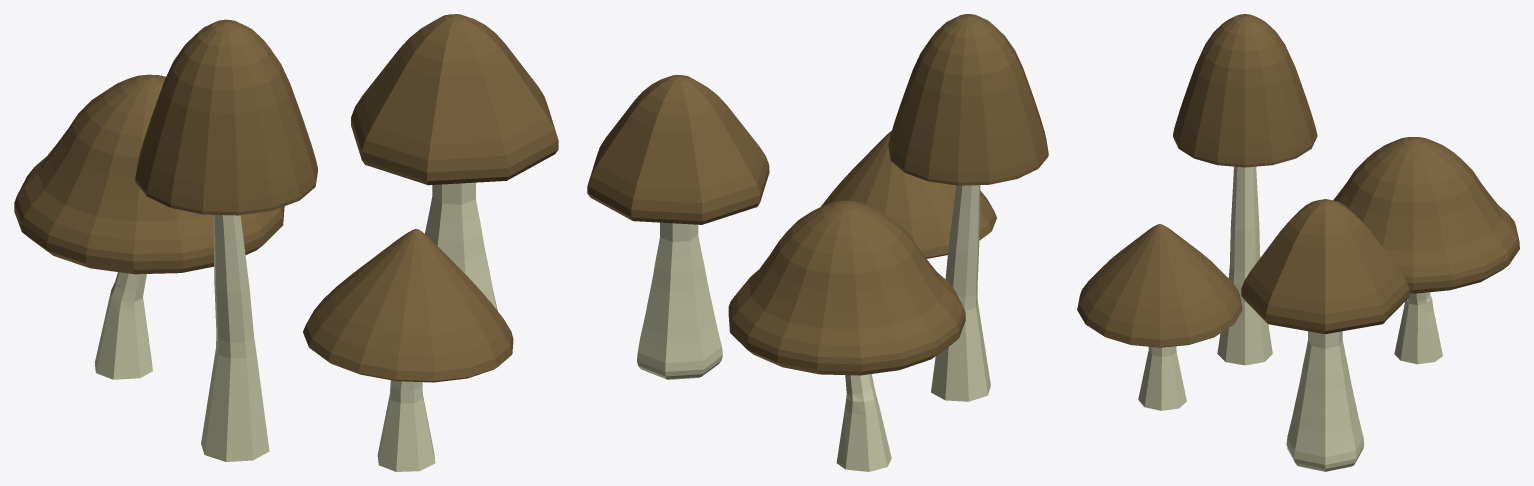
The model's file is Pilzgruppe 2.fbx.
The picture shows the model from 3 angles, left to right: view 1: azimuth 30°, elevation 25°; view 2: azimuth 150°, elevation 25°; view 3: azimuth 270°, elevation 25°; orthographic projection. The views are drawn at different scales.
Parts seen in each view (by area): view 1: Pilz__I, Pilz_IV, Pilz_II, Pilz_III; view 2: Pilz_II, Pilz_IV, Pilz__I, Pilz_III; view 3: Pilz_IV, Pilz__I, Pilz_II, Pilz_III.
Part boxes in pixels (bbox=[...]): Pilz__I: bbox=[135, 19, 317, 461]; Pilz_IV: bbox=[351, 14, 558, 310]; Pilz_II: bbox=[14, 74, 284, 379]; Pilz_III: bbox=[303, 229, 513, 471]; Pilz_II: bbox=[728, 200, 965, 471]; Pilz_IV: bbox=[587, 75, 769, 379]; Pilz__I: bbox=[888, 14, 1048, 401]; Pilz_III: bbox=[821, 130, 996, 258]; Pilz_IV: bbox=[1241, 199, 1409, 471]; Pilz__I: bbox=[1173, 14, 1317, 365]; Pilz_II: bbox=[1333, 137, 1519, 364]; Pilz_III: bbox=[1077, 224, 1242, 410].
Bounding box in the file's own units: 93.09 × 83.56 × 99.75.
